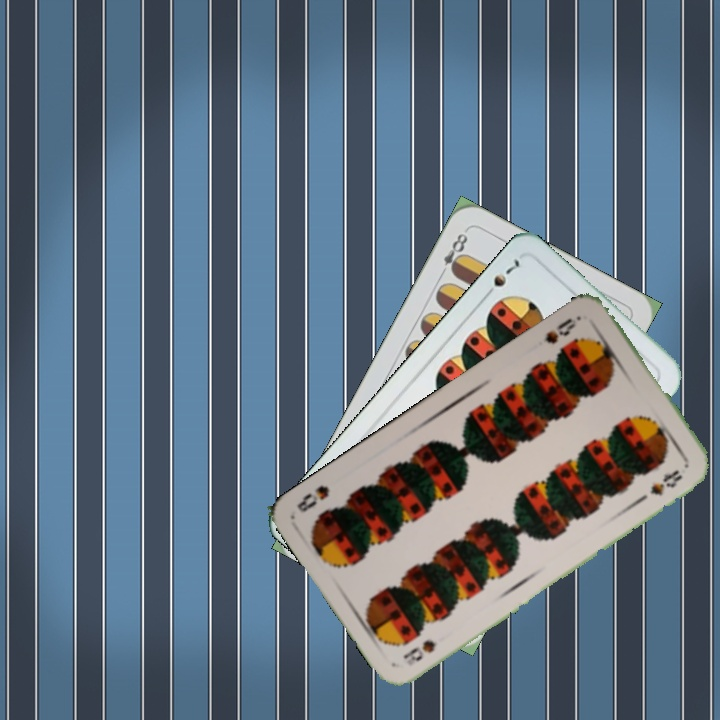E8: (435, 229, 471, 280)
S7: (480, 254, 523, 301)
S8: (541, 311, 584, 347), (399, 635, 438, 669)
